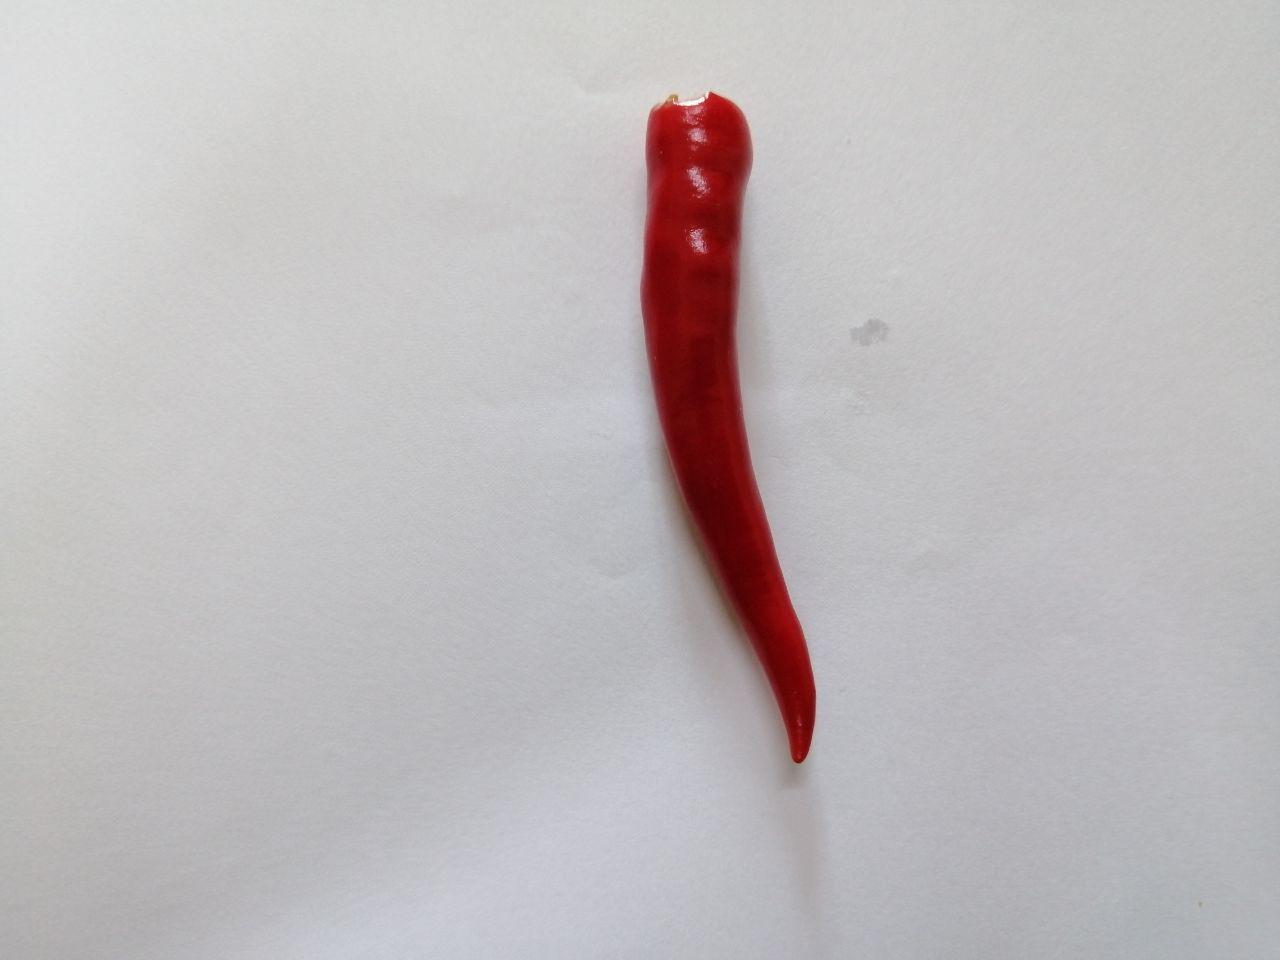lada merah: (584, 77, 852, 778)
